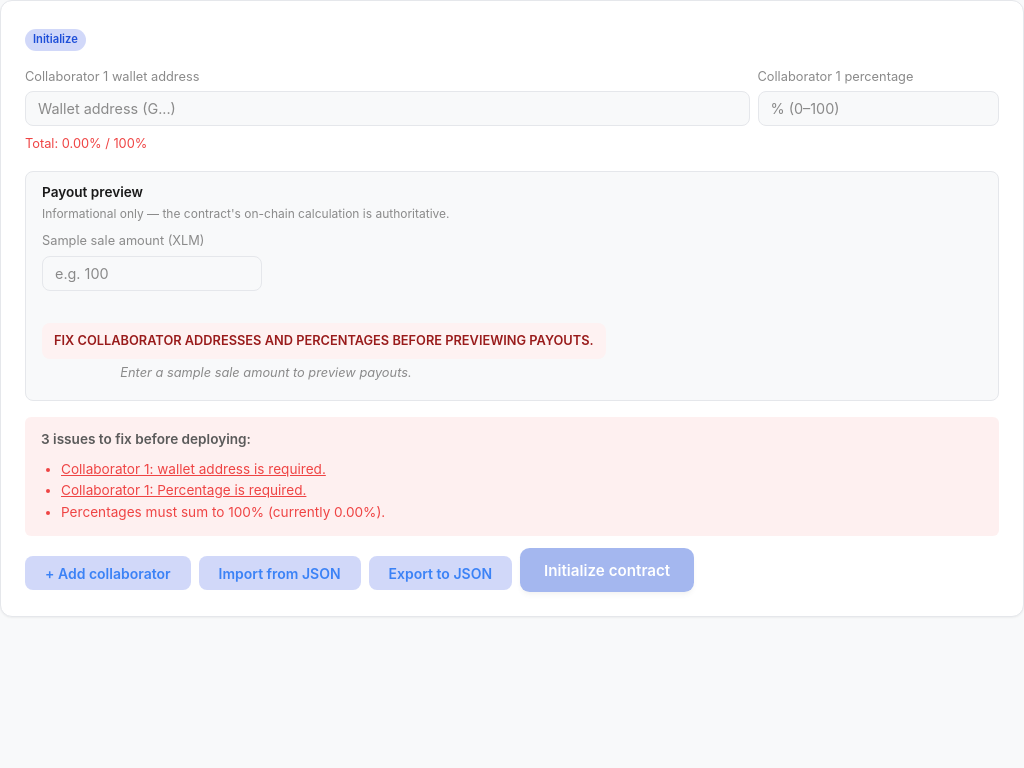
it: InitializeForm validation summary › shows a ready-to-deploy state once all fields are valid and shares sum to 100%
Type "GAAZI4TCR3TY5OJHCTJC2A4QSY6CJWJH5IAJTGKIN2ER7LBNVKOCCWNA" into the field labelled "Collaborator 1 wallet address" at point(387, 109), box 25,91 -> 750,126
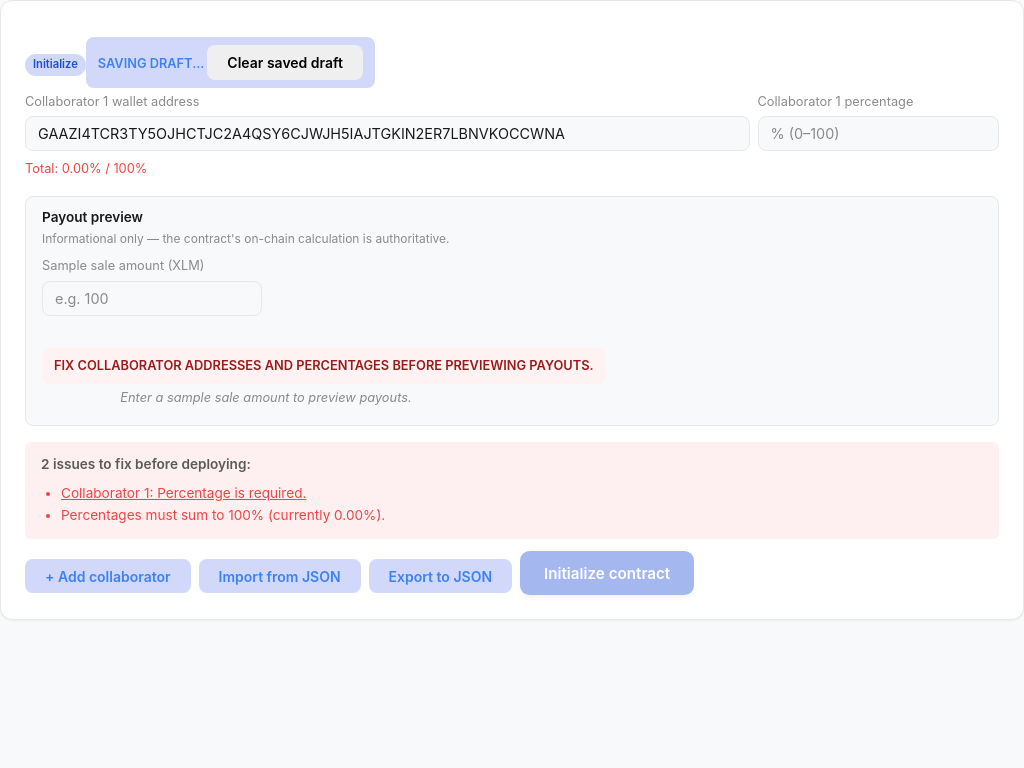
Type "100" into the number field labelled "Collaborator 1 percentage" at point(878, 134), box 758,116 -> 999,151
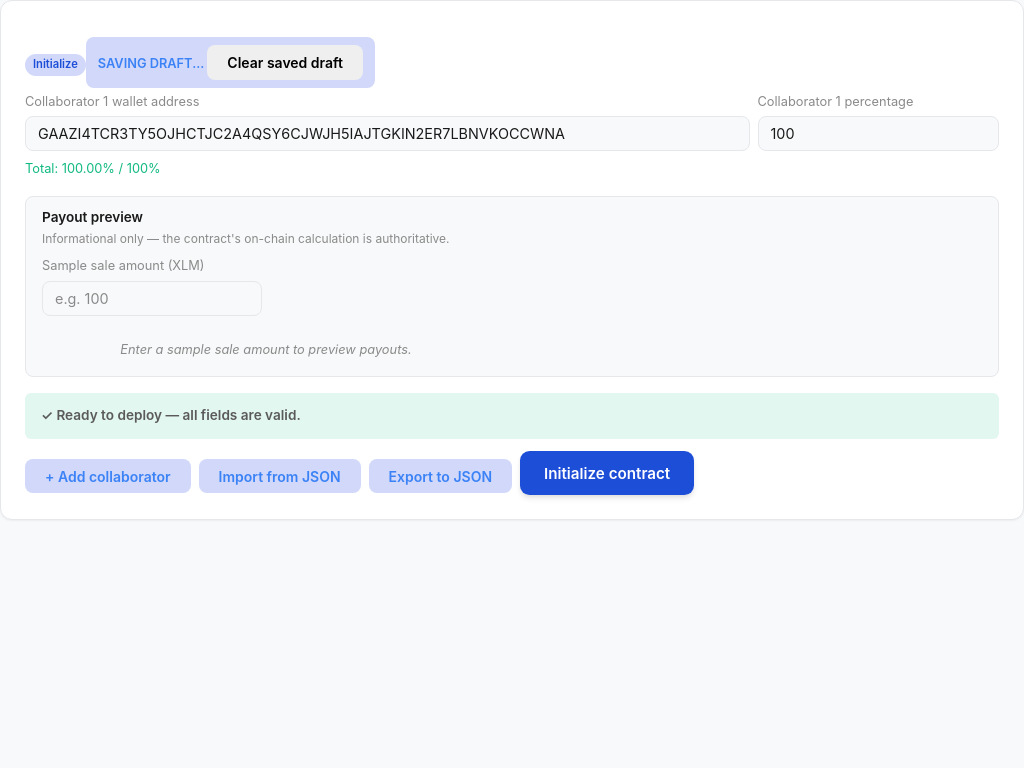
Expected: the text with test id "validation-summary-status" shows "Ready to deploy", 41,407 -> 301,423
